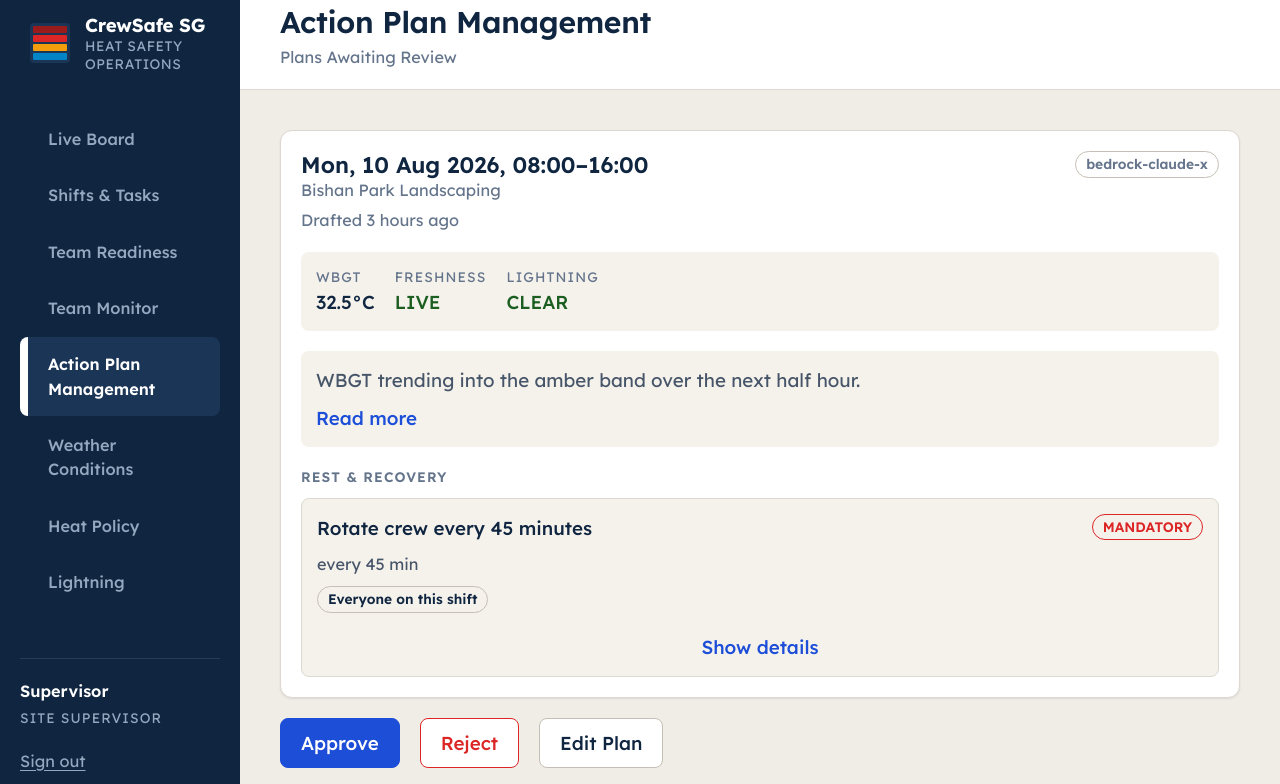
ApprovalsPage › groups mitigations and reveals their supporting detail on request
The image size is (1280, 784).
Expected: the heading "Rest & Recovery" is shown, left=301, top=468, right=447, bottom=485
Expected: the text "Everyone on this shift" is shown, left=317, top=586, right=488, bottom=613
Click the button "Show details": coordinates (760, 647) left=317, top=633, right=1203, bottom=661
(page scrolled)
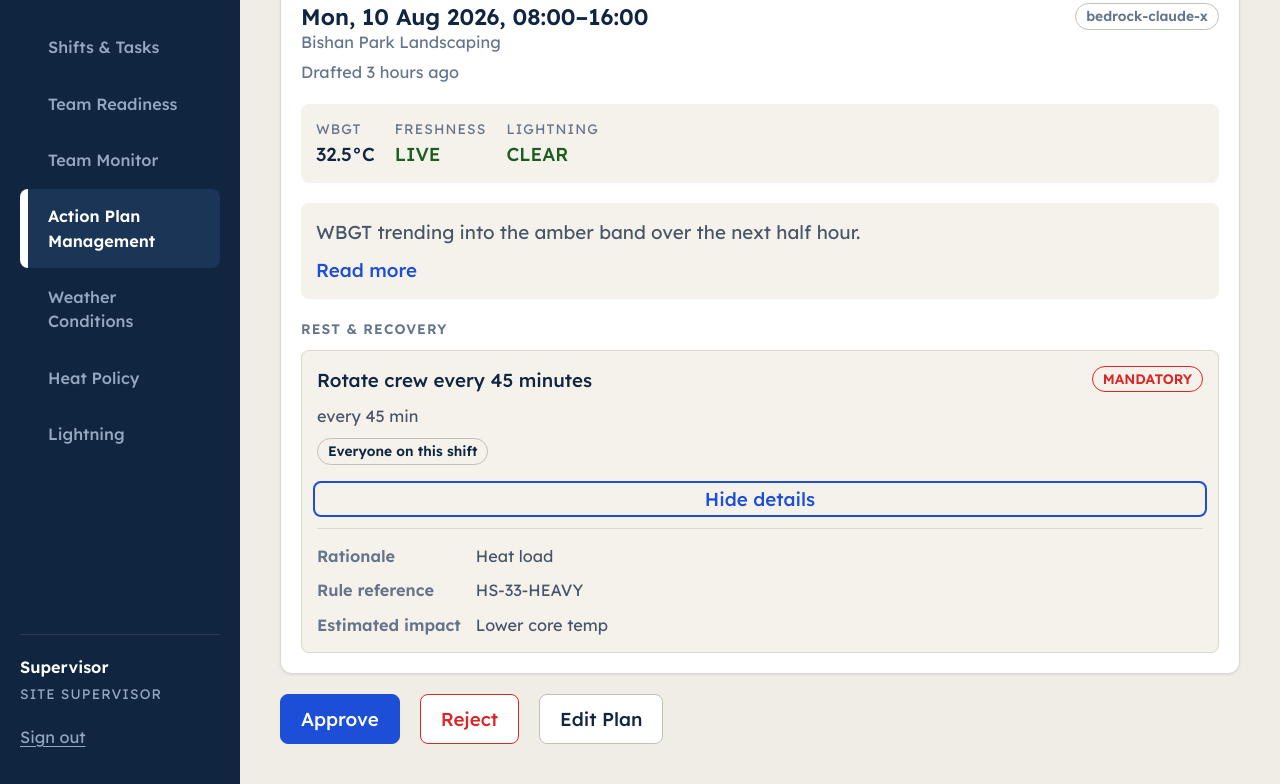
Result: the text "Heat load" is shown at left=476, top=546, right=553, bottom=566
Result: the text "HS-33-HEAVY" is shown at left=476, top=580, right=583, bottom=600
Result: the text "Lower core temp" is shown at left=476, top=615, right=608, bottom=635
